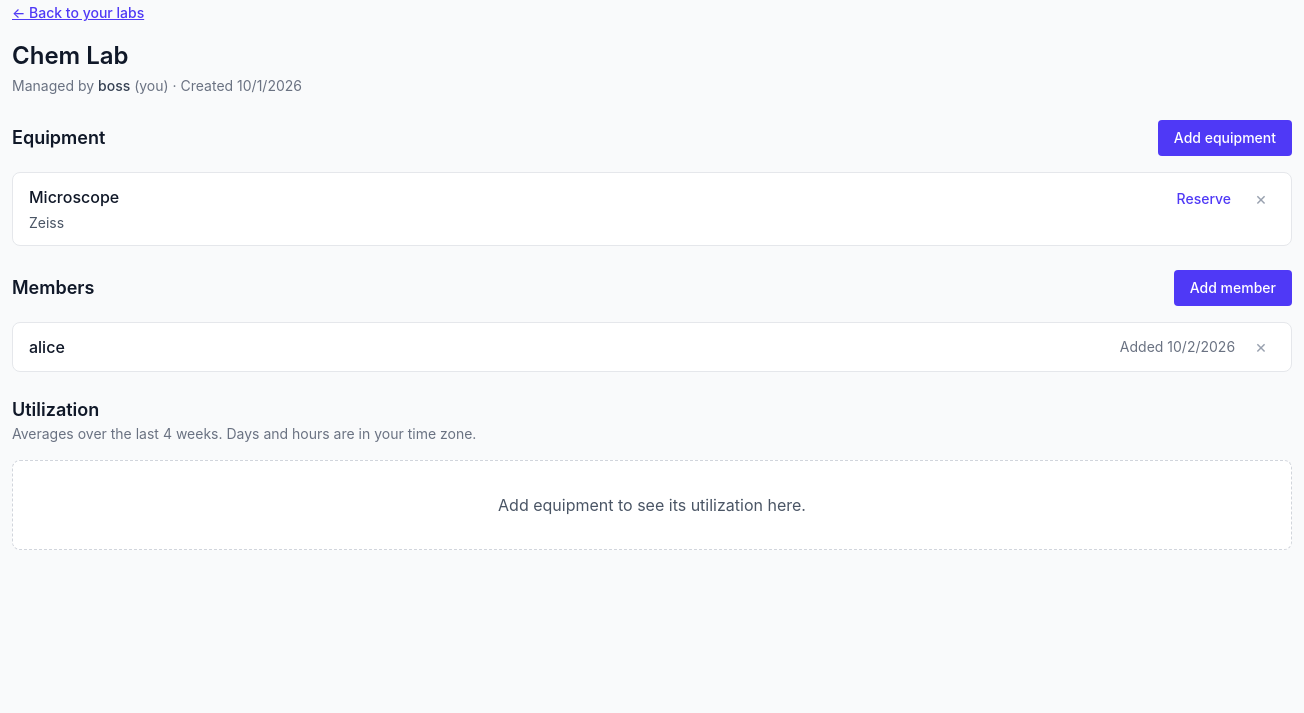
Scenario: cancelling a reservation › lets a manager remove anyone's reservation after confirming
This screenshot has width=1304, height=713.
Click the button "Reserve": (1204,199) [1169, 185, 1239, 213]
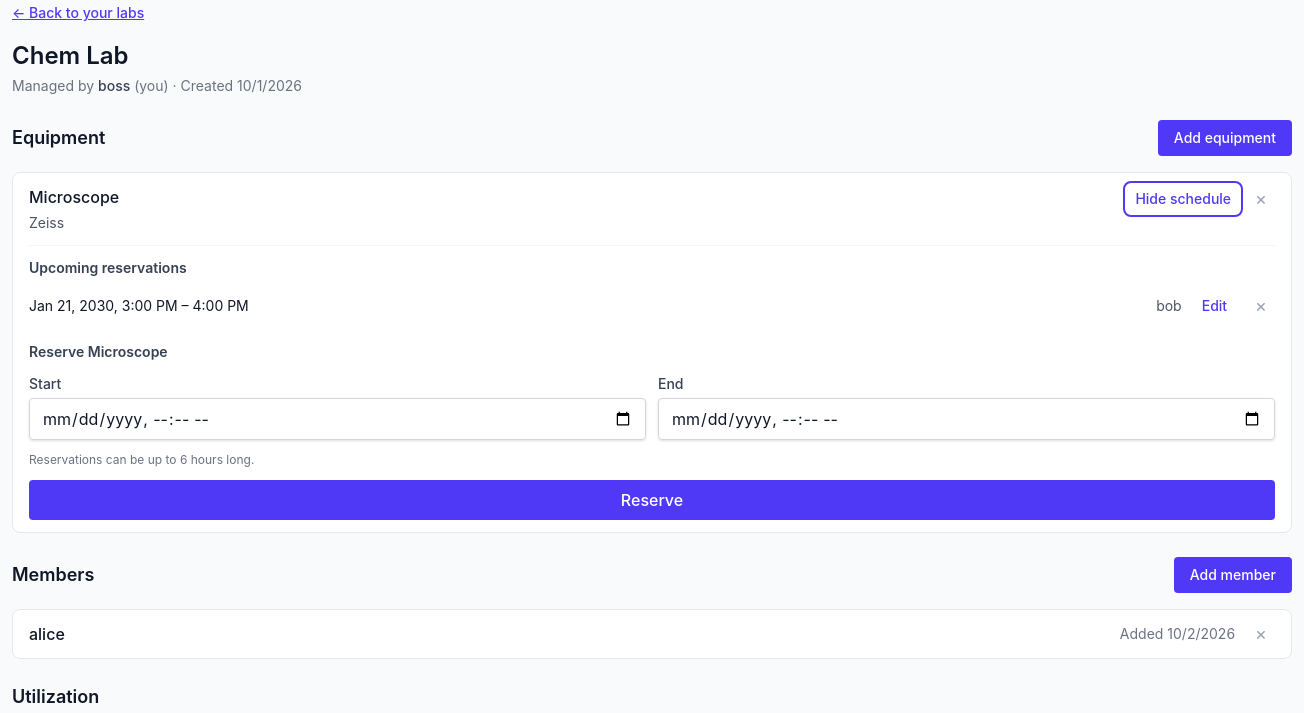
expect the heading "Upcoming reservations" is shown: met, box [29, 259, 187, 276]
Click the button named "Remove bob's reservation": (1261,306) [1247, 295, 1275, 317]
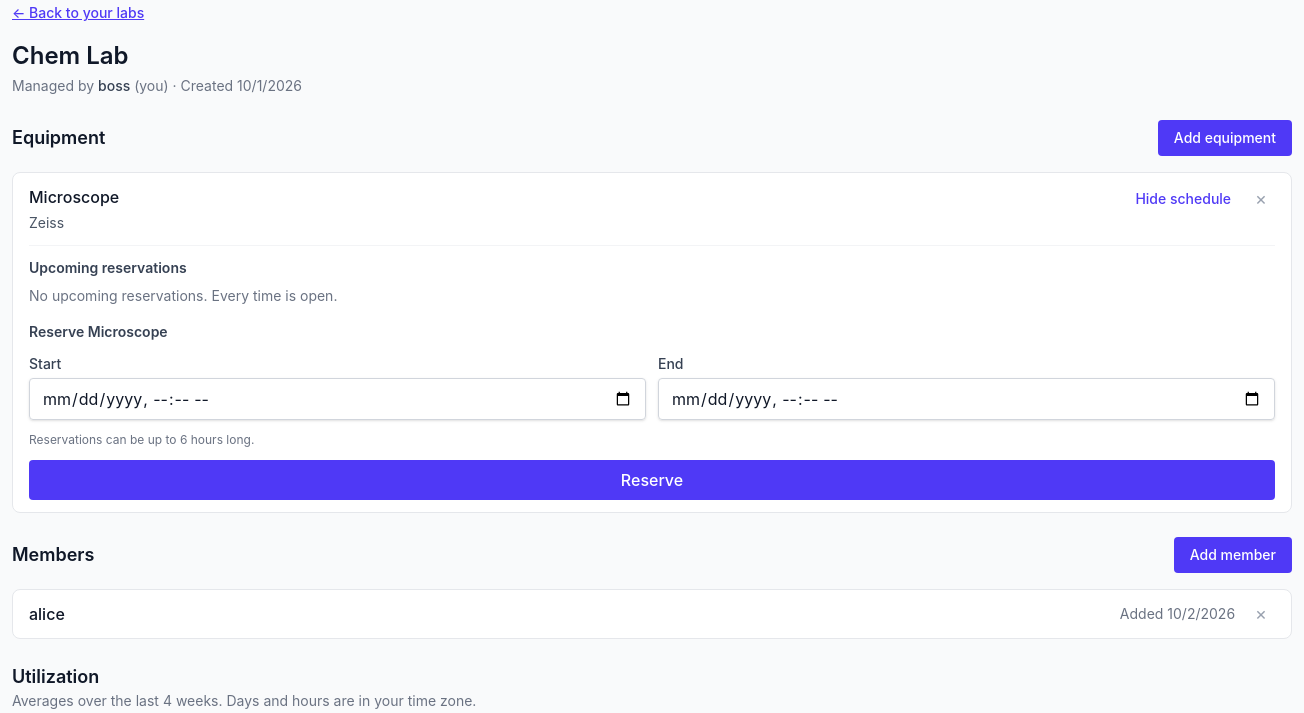
expect the text "bob" is gone: met
